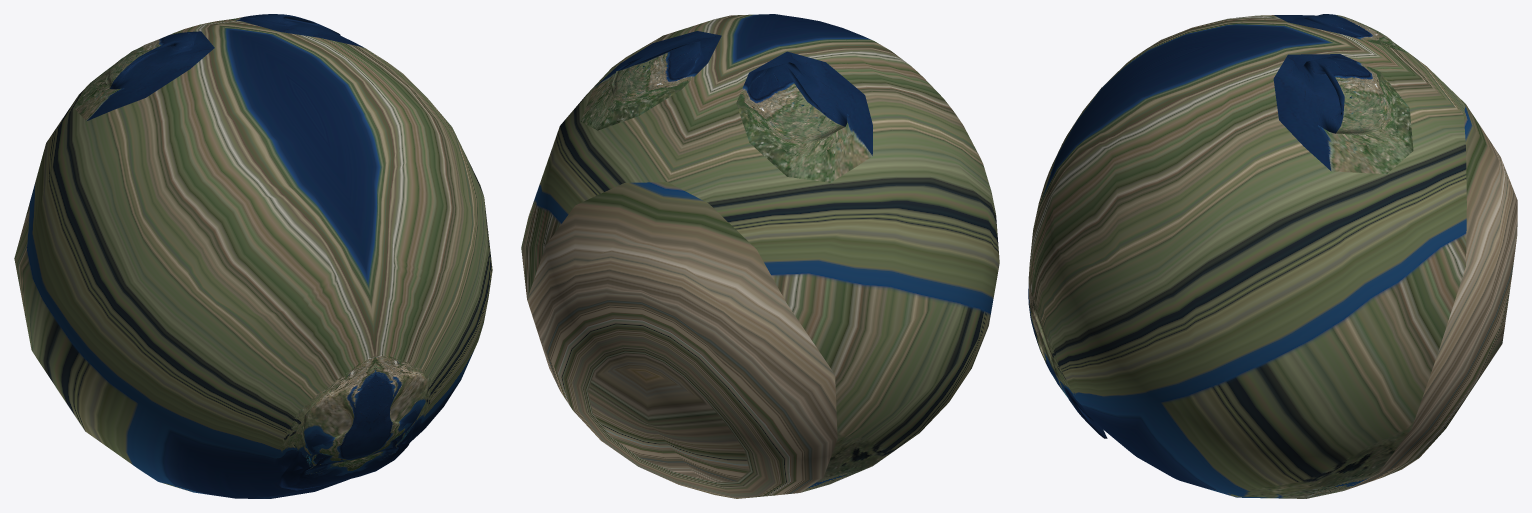
Rendered from horse_sphere.obj.
3 renders of one model, left to right at view 1: azimuth 30°, elevation 25°; view 2: azimuth 150°, elevation 25°; view 3: azimuth 270°, elevation 25°, orthographic.
Visible parts, largest first — view 1: Plane.002; view 2: Plane.002; view 3: Plane.002.
Boxes of the visible parts, bbox=[...] form: Plane.002: bbox=[14, 14, 492, 498]; Plane.002: bbox=[521, 14, 999, 498]; Plane.002: bbox=[1028, 14, 1517, 498].
Bounding box in the file's own units: 0.6229 × 0.6315 × 0.634.
